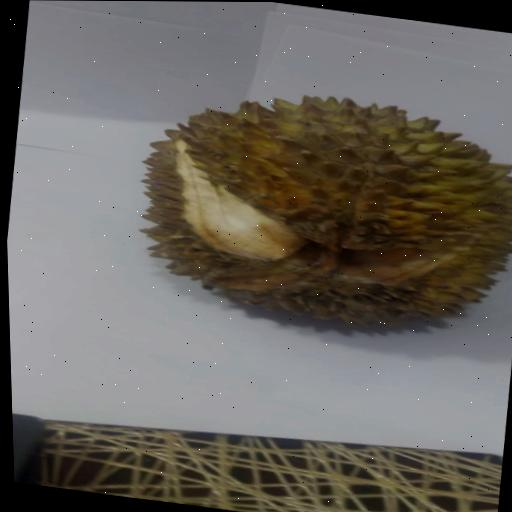rot: (100, 56, 512, 372)
